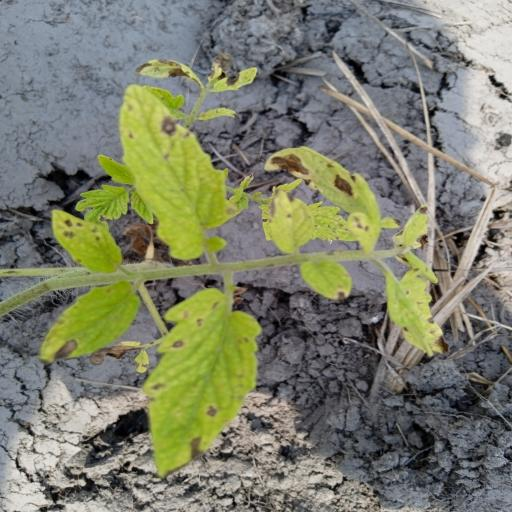Tomato_Brown_Spots: (110, 77, 252, 260), (142, 282, 262, 477)
